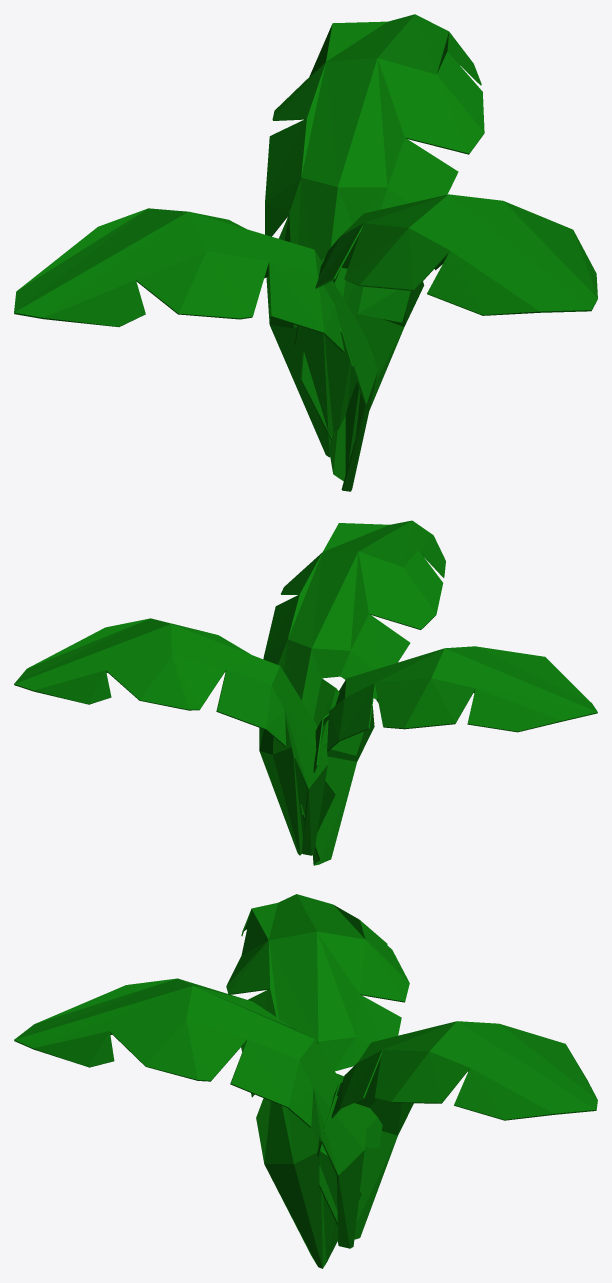
The model's file is testPlant 1.fbx.
The picture shows the model from 3 angles, top to bottom: view 1: azimuth 30°, elevation 25°; view 2: azimuth 150°, elevation 25°; view 3: azimuth 270°, elevation 25°; orthographic projection. The views are drawn at different scales.
Parts seen in each view (by area): view 1: Plane202; view 2: Plane202; view 3: Plane202.
Boxes of the visible parts, x1,y1,x2,y2 form: Plane202: [14, 14, 597, 491]; Plane202: [14, 520, 597, 865]; Plane202: [14, 894, 597, 1268].
Size of the model in its own units: 13.18 by 7.42 by 13.49.
